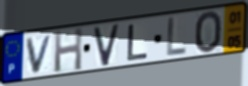H: (53, 26, 84, 74)
L: (125, 22, 150, 63), (165, 16, 188, 58)
O: (194, 10, 224, 56)
V: (92, 23, 121, 69), (25, 33, 55, 75)
